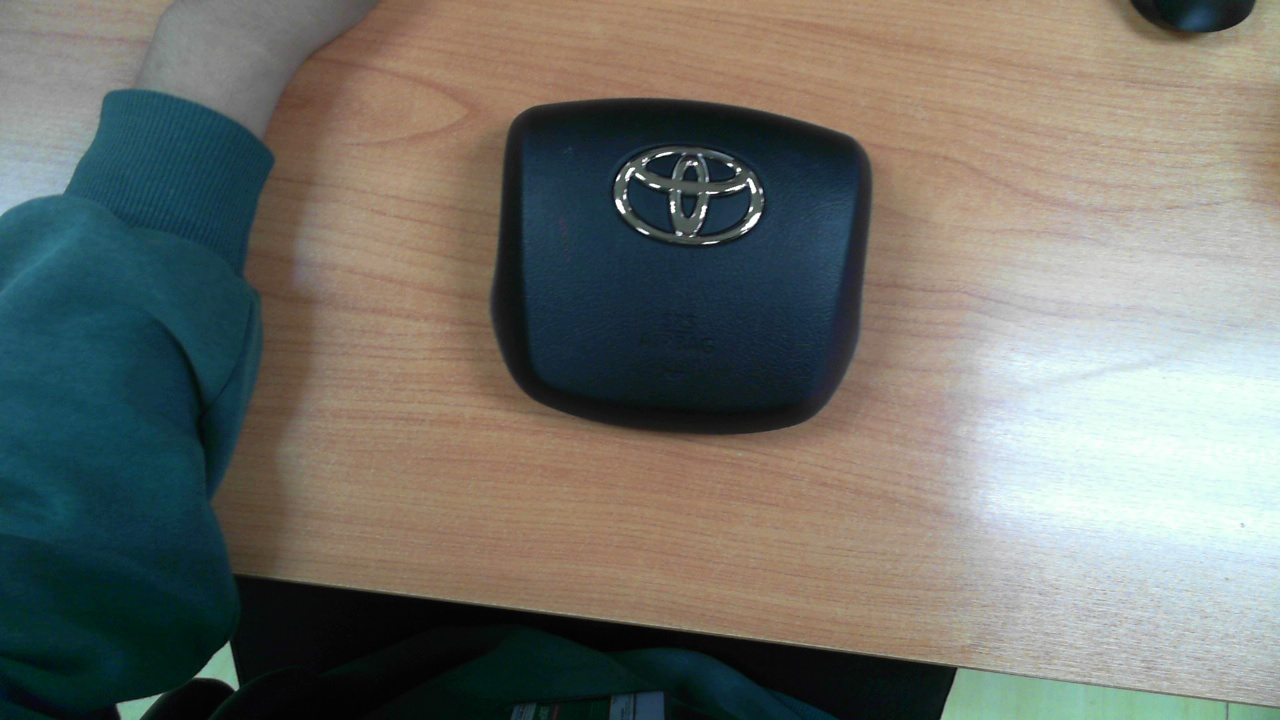Airbag: (489, 98, 872, 437)
Toyota: (614, 146, 764, 245)
